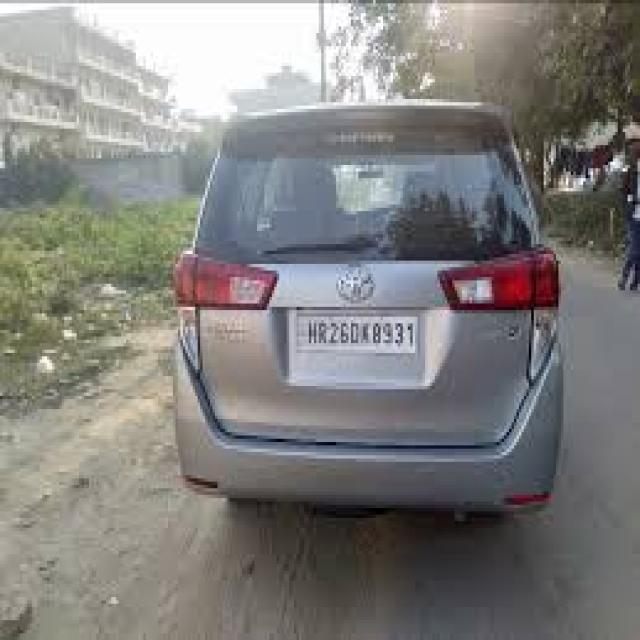light_vehicle: (174, 98, 564, 519)
